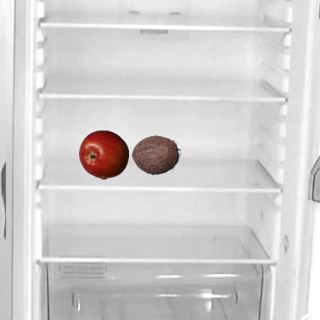Apple Braeburn: (78, 129, 128, 179)
Cocos: (130, 129, 180, 179)
